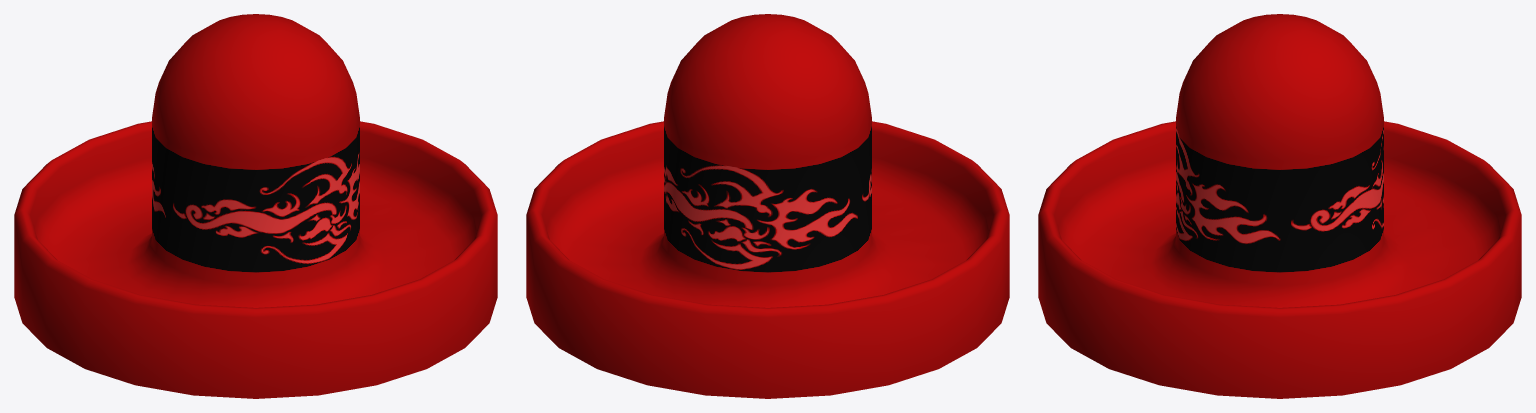
The model's file is Mallet10.fbx.
3 views of the same model, side by side, from view 1: azimuth 30°, elevation 25°; view 2: azimuth 150°, elevation 25°; view 3: azimuth 270°, elevation 25° (orthographic).
Parts seen in each view (by area): view 1: Empty_Mesh; view 2: Empty_Mesh; view 3: Empty_Mesh.
Part boxes in pixels (x1=…): Empty_Mesh: x1=14, y1=14, x2=497, y2=398; Empty_Mesh: x1=526, y1=14, x2=1009, y2=398; Empty_Mesh: x1=1038, y1=14, x2=1521, y2=398.
Bounding box in the file's own units: 12.1 × 7.55 × 12.1.
